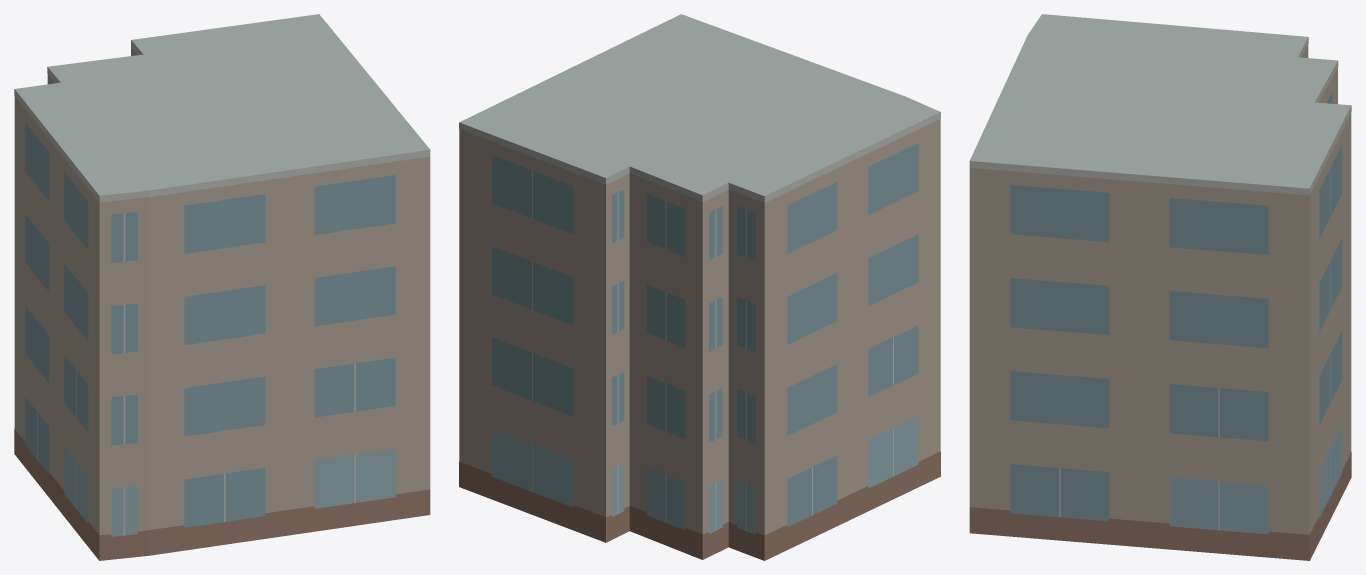
Rendered from survey-upis-32851595.glb.
3 views of the same model, side by side, from view 1: azimuth 30°, elevation 25°; view 2: azimuth 150°, elevation 25°; view 3: azimuth 270°, elevation 25° (orthographic). The views are drawn at different scales.
Visible parts, largest first — view 1: survey-upis-32851595.tmp; view 2: survey-upis-32851595.tmp; view 3: survey-upis-32851595.tmp.
Part boxes in pixels (x1=…): survey-upis-32851595.tmp: x1=14, y1=14, x2=430, y2=560; survey-upis-32851595.tmp: x1=459, y1=14, x2=940, y2=560; survey-upis-32851595.tmp: x1=969, y1=14, x2=1351, y2=560.
Bounding box in the file's own units: 13.34 × 13.25 × 12.33.
